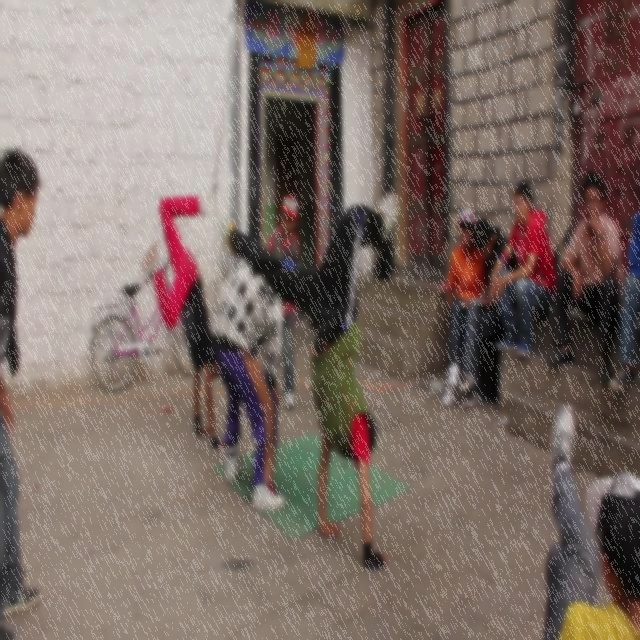pessoa: (219, 189, 401, 572), (210, 244, 302, 512), (538, 401, 640, 638), (140, 192, 228, 452), (0, 144, 45, 639), (546, 168, 628, 384), (456, 214, 522, 408), (488, 178, 556, 358), (439, 206, 489, 407), (262, 192, 300, 411), (608, 209, 640, 395)
